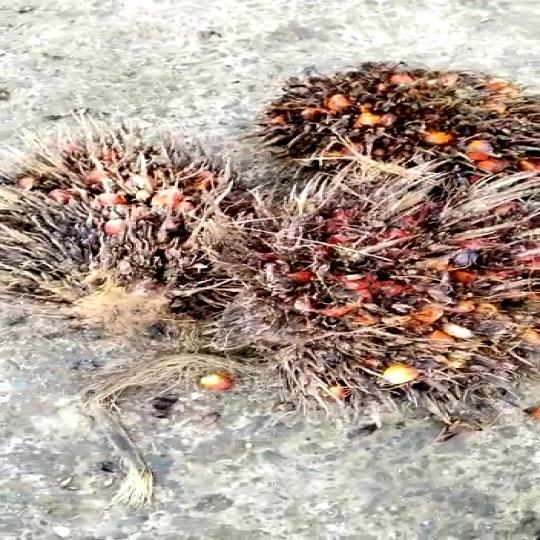terlalu masak: (211, 180, 540, 411), (0, 129, 288, 318), (252, 62, 540, 201)
